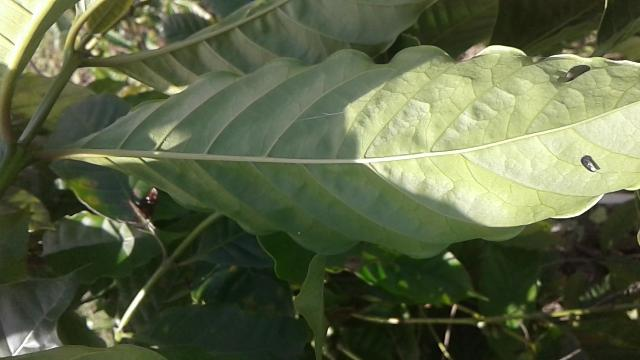healthy: (64, 44, 640, 262)
